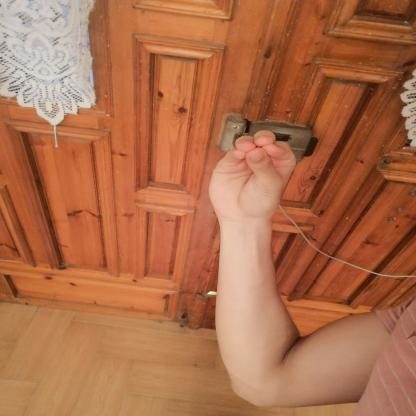HA: (193, 121, 311, 236)
